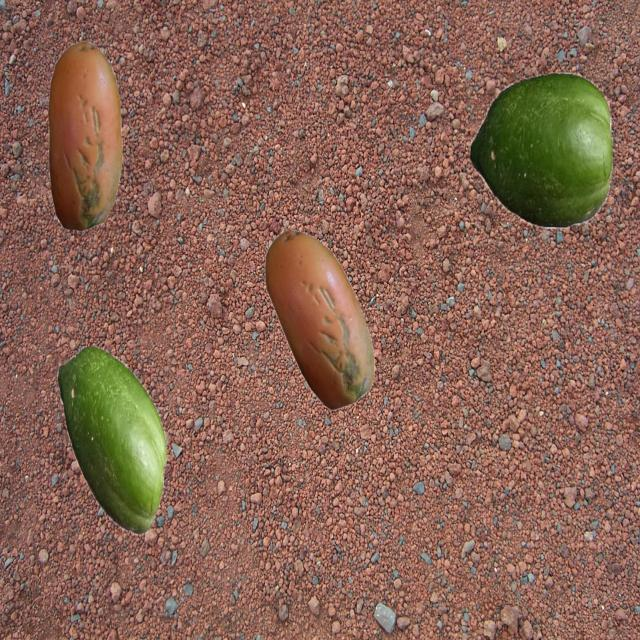Pepaya rippen: (258, 238, 388, 423), (38, 42, 134, 240)
Pepaya unrippen: (454, 88, 624, 245), (59, 337, 170, 534)
